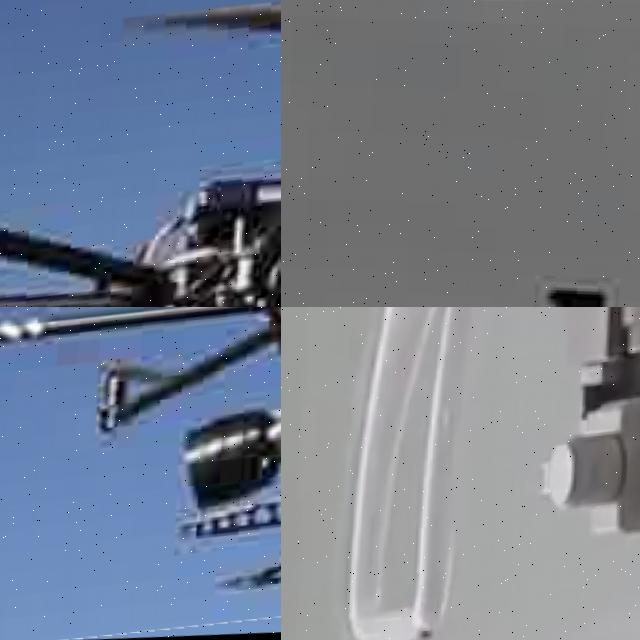0: (0, 307, 281, 640), (0, 0, 281, 307)
drone: (281, 307, 640, 640)
